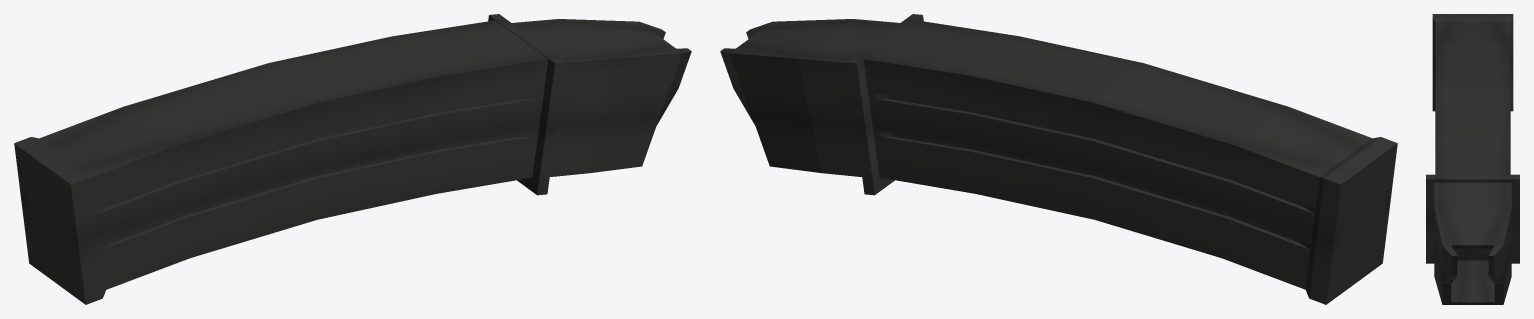
Rendered from ReplikaSMGClip.fbx.
3 renders of one model, left to right at view 1: azimuth 30°, elevation 25°; view 2: azimuth 150°, elevation 25°; view 3: azimuth 270°, elevation 25°, orthographic. The views are drawn at different scales.
Parts seen in each view (by area): view 1: SMGMag; view 2: SMGMag; view 3: SMGMag.
Part boxes in pixels (x1,y1,x2,y2): SMGMag: (14,14,691,304); SMGMag: (720,14,1397,304); SMGMag: (1426,14,1519,304).
Size of the model in its own units: 0.0323 by 0.0398 by 0.179.
